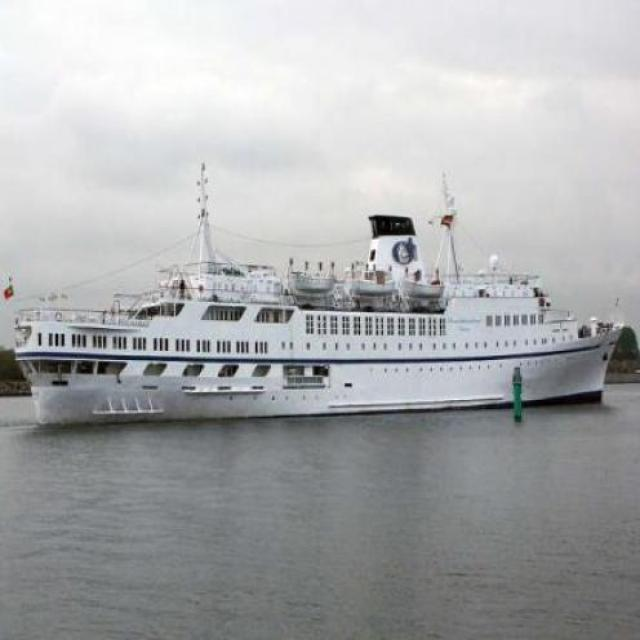boat: (4, 262, 622, 422)
